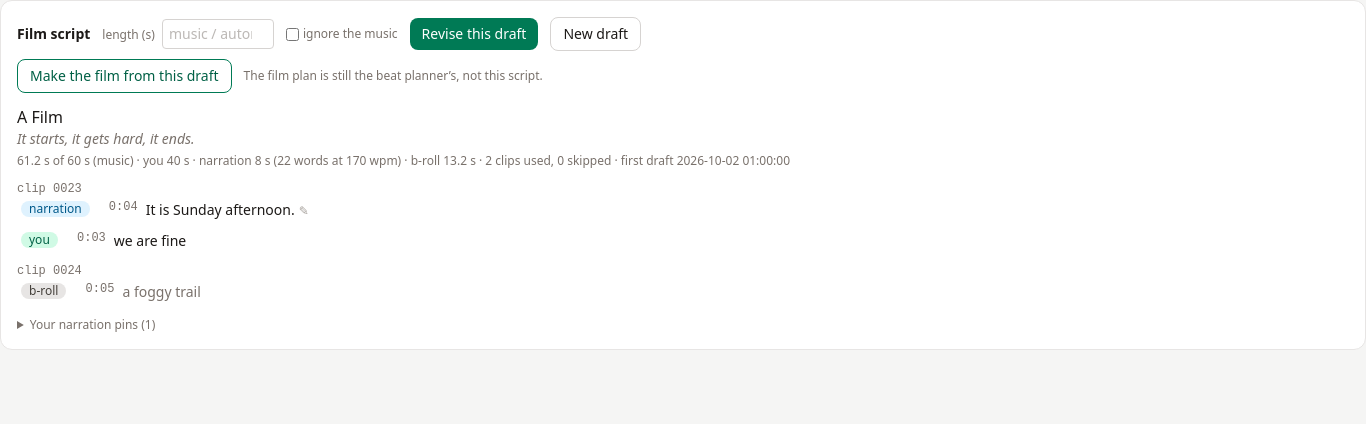
it: ScriptDraftPanel narration pins › says so when the pins cannot be saved
Click the heading "Your narration pins (1)" at [92, 325], box [30, 316, 155, 333]
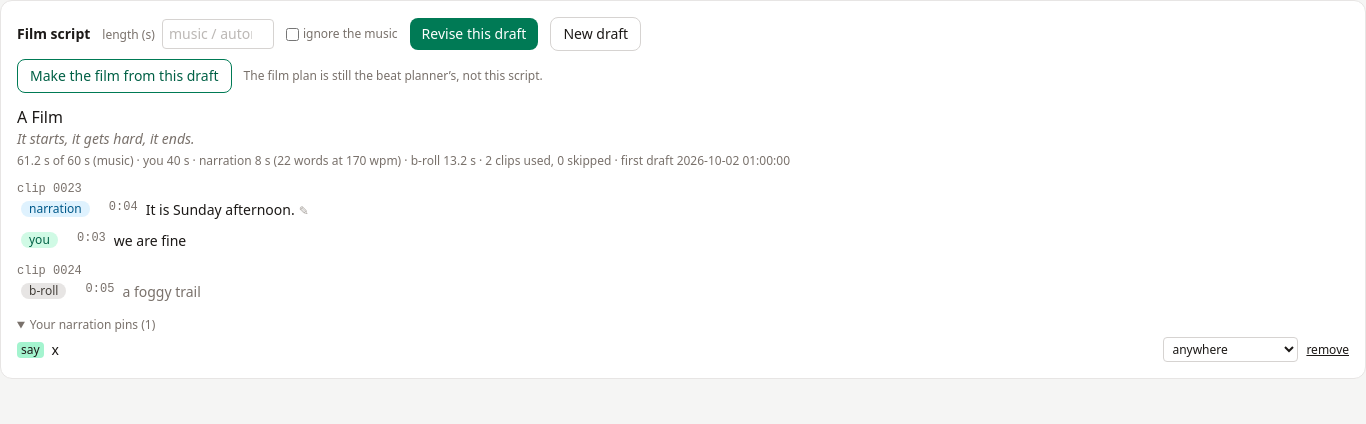
Click the button with aria-label "Remove pin v1" at [1328, 350], box [1306, 342, 1349, 358]
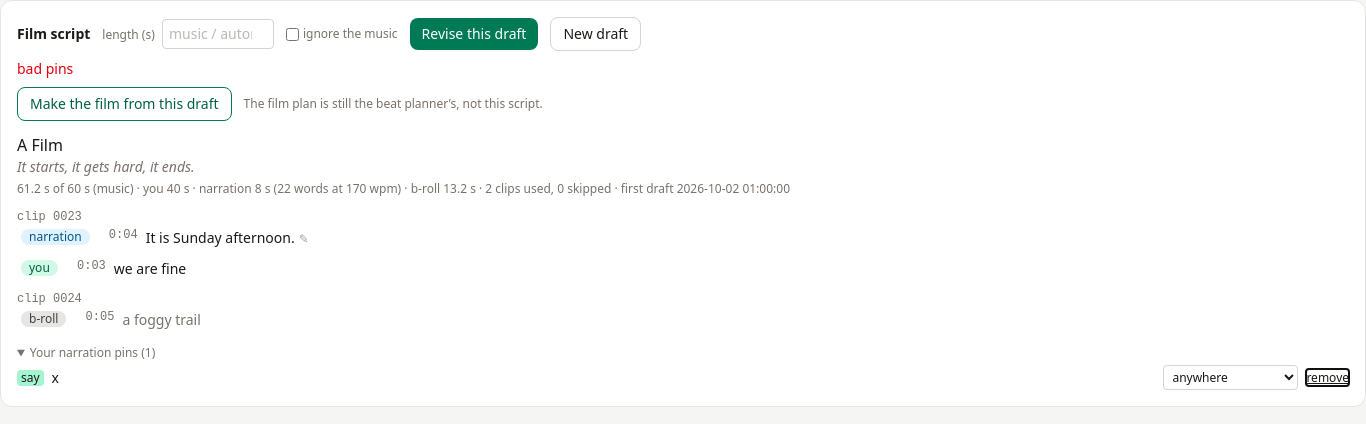
Expected: the text "bad pins" is shown, [17, 59, 73, 78]
